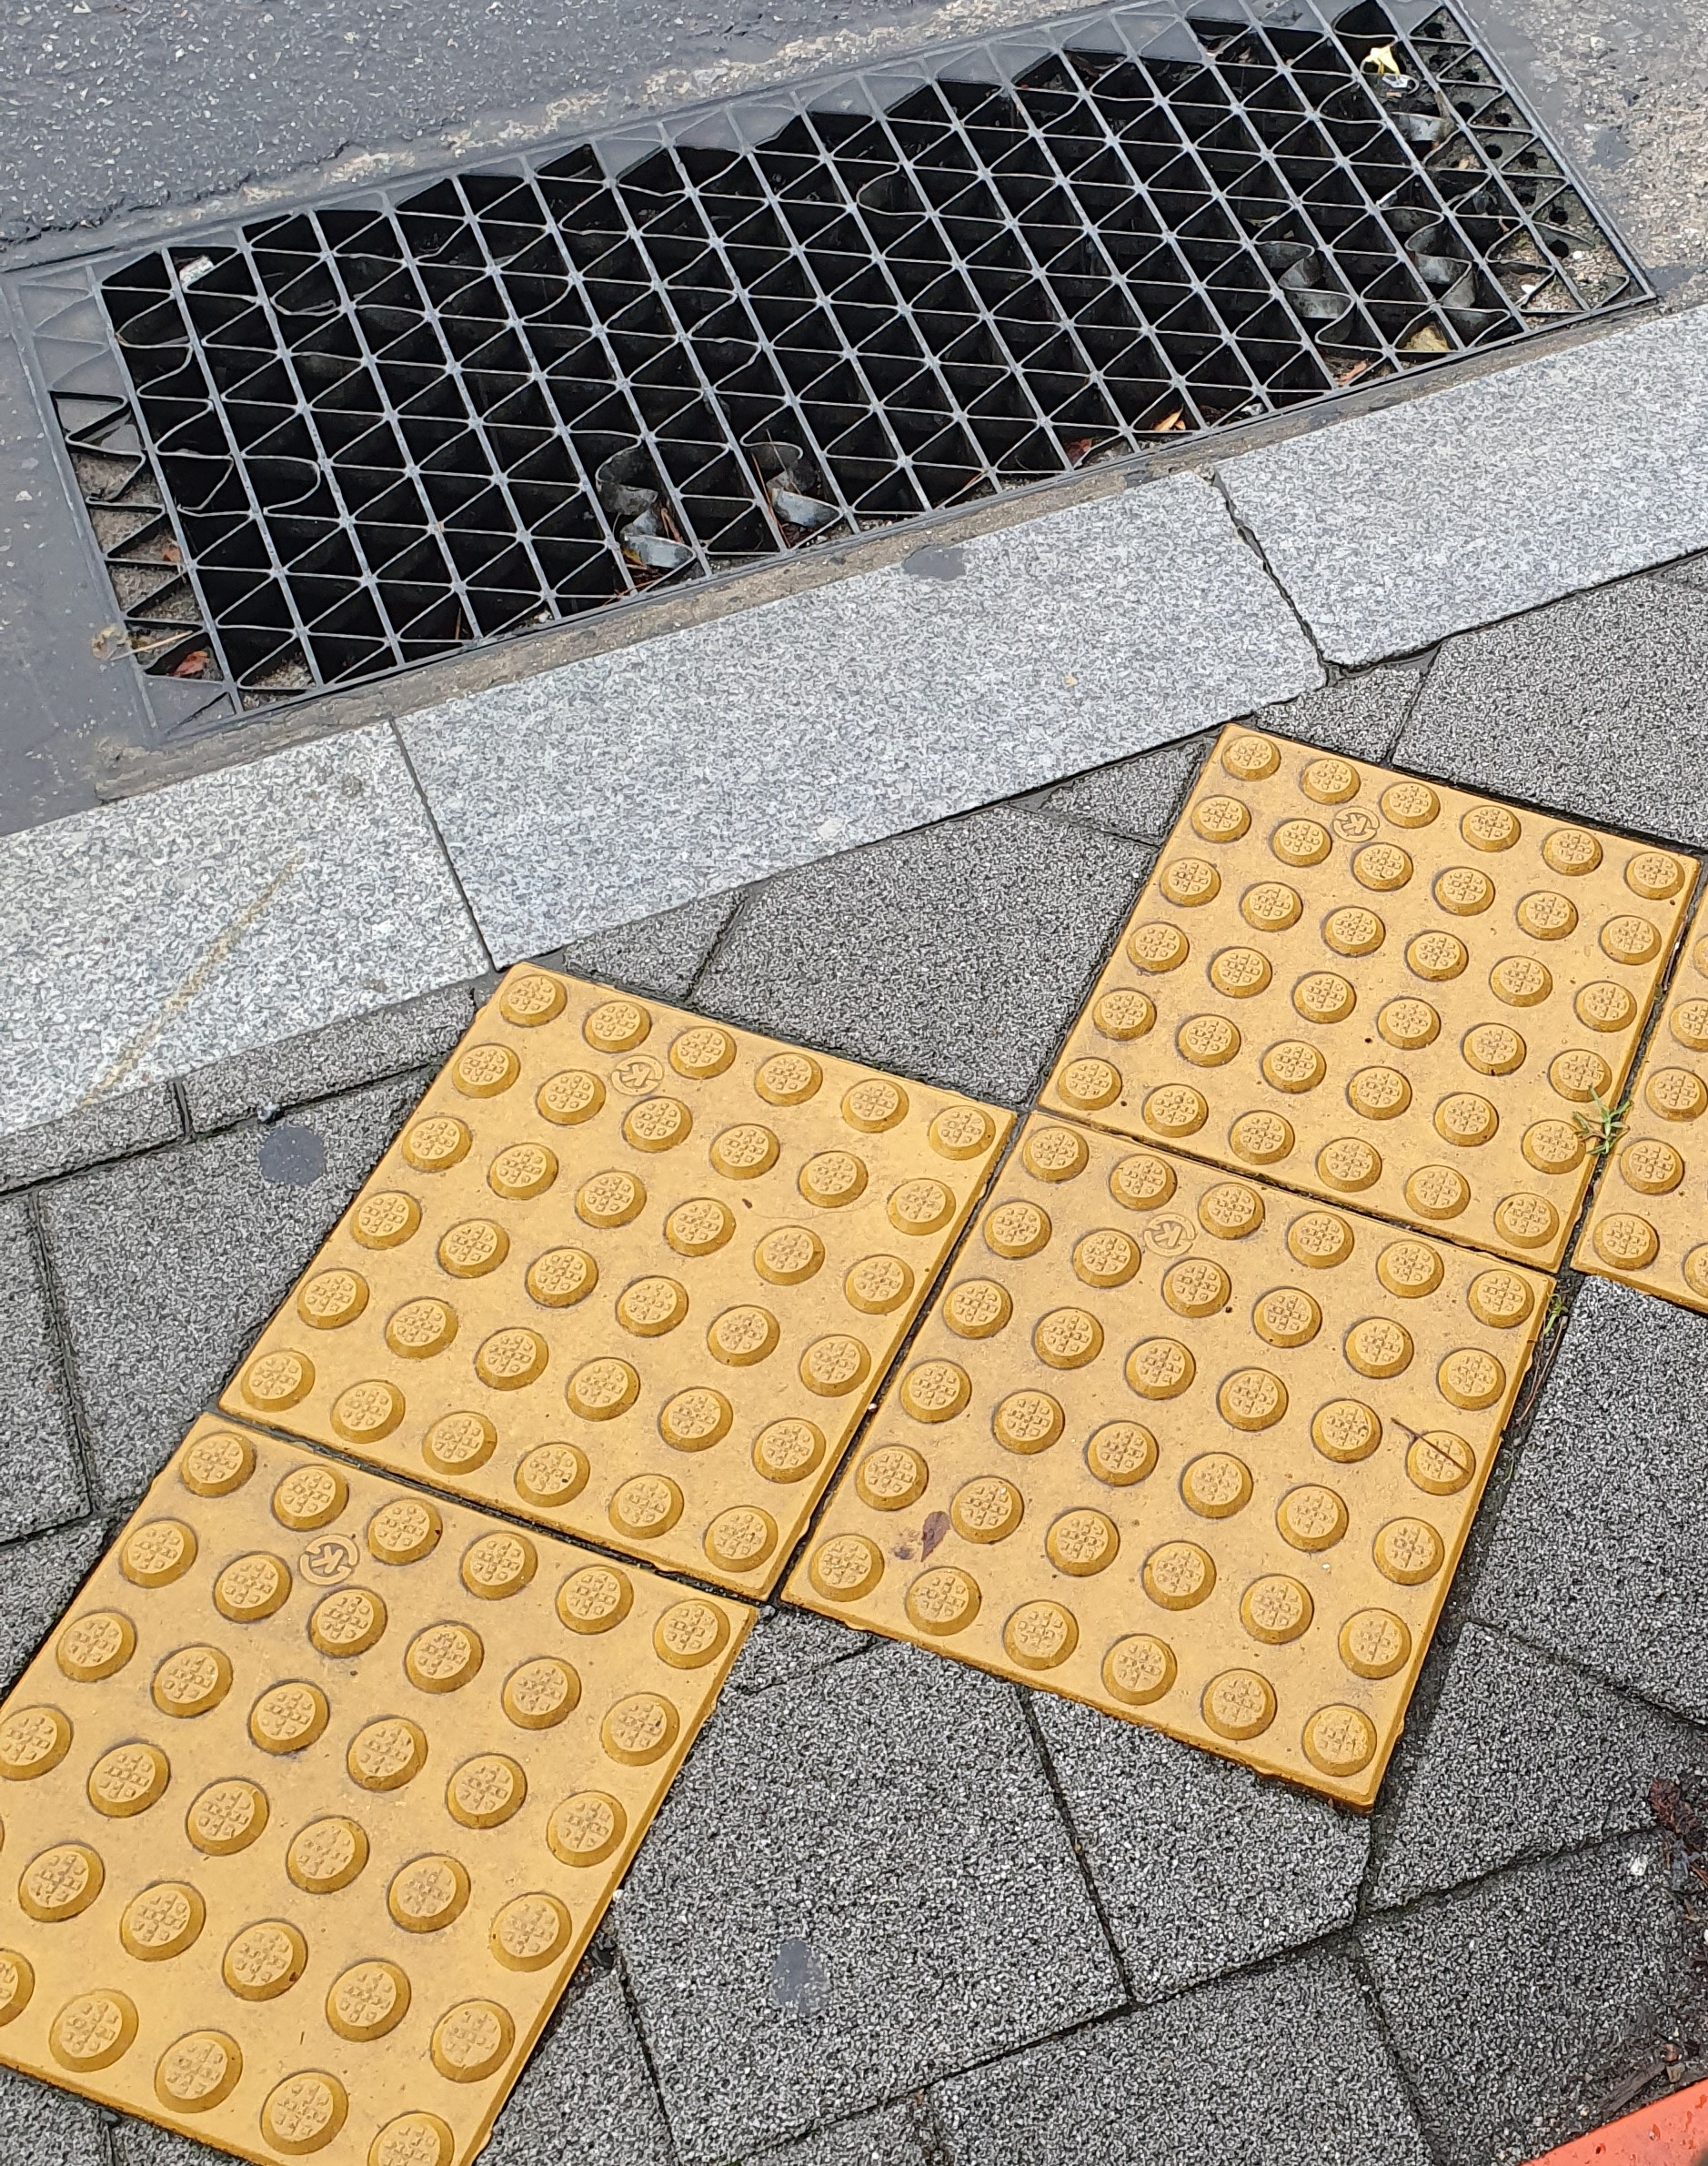warningBlock: (62, 1486, 684, 2127), (963, 1088, 1502, 1714), (425, 1004, 975, 1565), (1198, 735, 1676, 1255)
